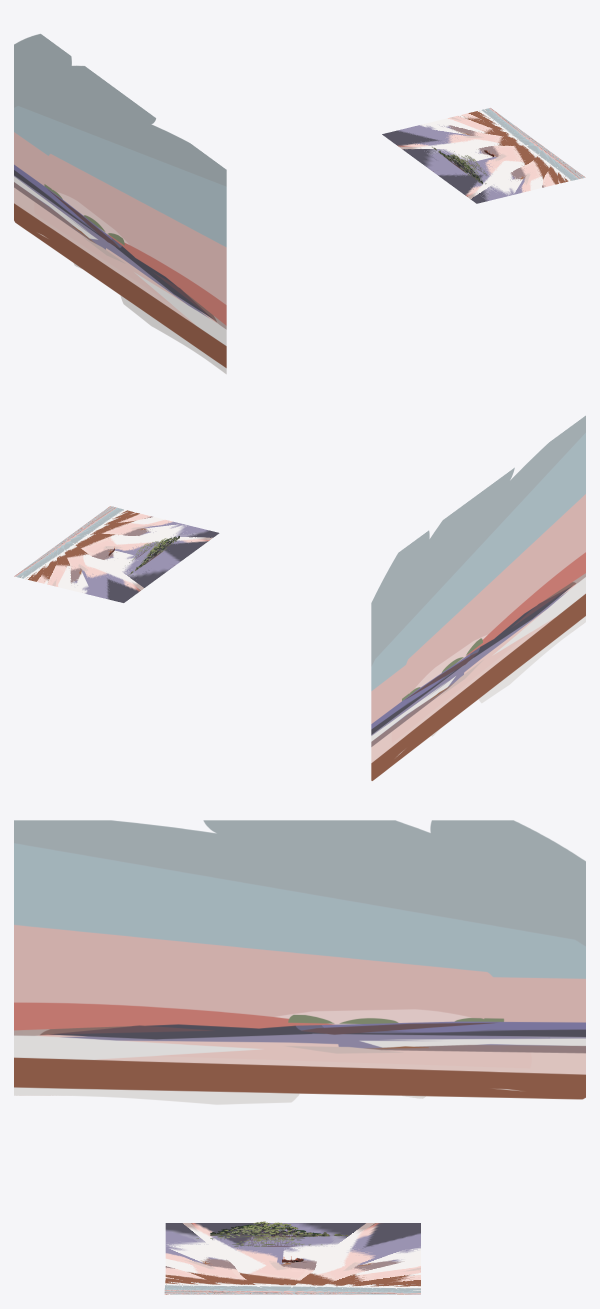
The model's file is boat_lighter.gltf.
3 views of the same model, one above another, from view 1: azimuth 30°, elevation 25°; view 2: azimuth 150°, elevation 25°; view 3: azimuth 270°, elevation 25° (orthographic). The views are drawn at different scales.
Visible parts, largest first — view 1: sky, Plane; view 2: sky, Plane; view 3: sky, Plane, trees.
Part boxes in pixels (x1,y1,x2,y2): sky: (14, 33, 226, 374); Plane: (382, 108, 585, 203); sky: (371, 415, 585, 780); Plane: (14, 506, 219, 602); sky: (14, 820, 585, 1104); Plane: (164, 1223, 420, 1294); trees: (210, 1221, 347, 1237).
Bounding box in the file's own units: 101 × 50.31 × 89.44.
Materials: 7 (7 with a texture image).
